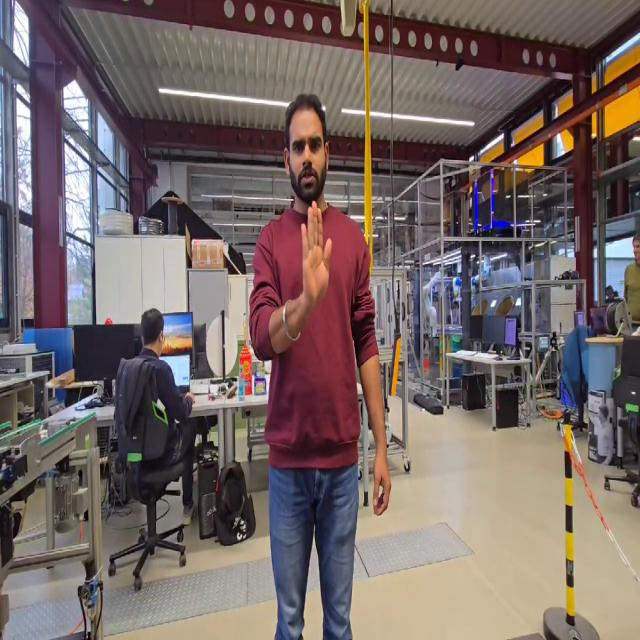open_palm: (296, 198, 336, 318)
